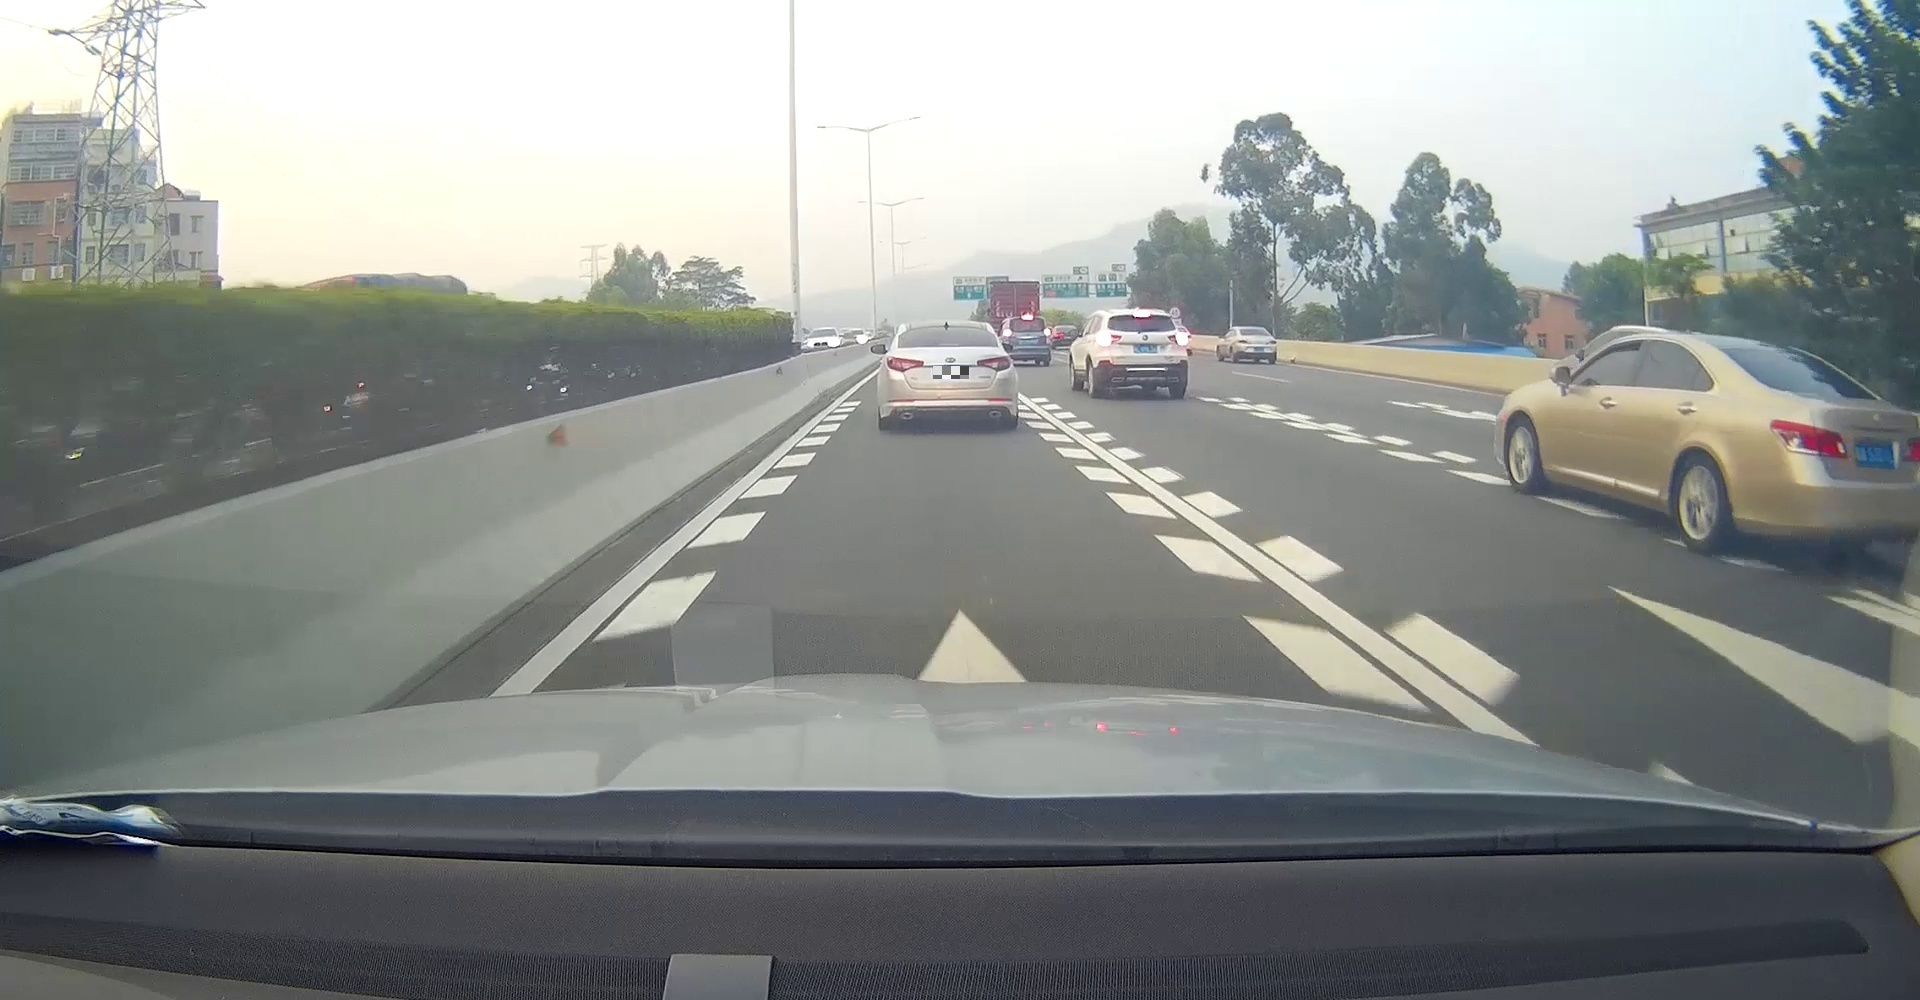L_light: (1769, 418, 1848, 458), (886, 357, 924, 372), (1095, 332, 1123, 346), (1239, 340, 1250, 344)
R_light: (977, 354, 1011, 372), (1902, 437, 1920, 463), (1167, 332, 1189, 346), (1266, 340, 1276, 345)
T_light: (1771, 350, 1792, 357), (1131, 311, 1150, 317), (938, 343, 957, 346), (1250, 327, 1256, 330)
day-brake: (1092, 308, 1189, 398)
day-no: (1719, 335, 1920, 561), (881, 320, 1018, 429), (1236, 327, 1277, 364)
plate_1: (933, 365, 969, 379)
